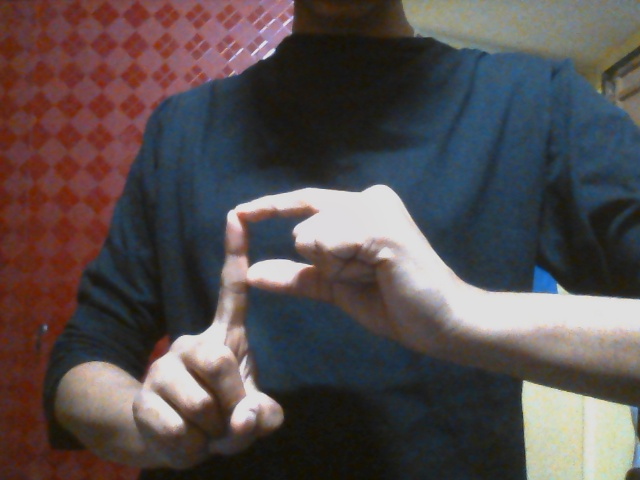P: (194, 192, 439, 458)
